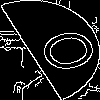O: (25, 25, 100, 81)
